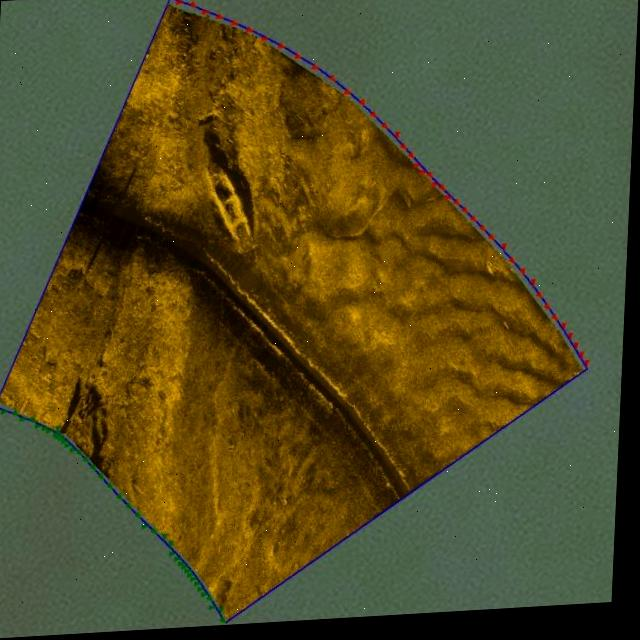shipwreck: (194, 151, 264, 256)
